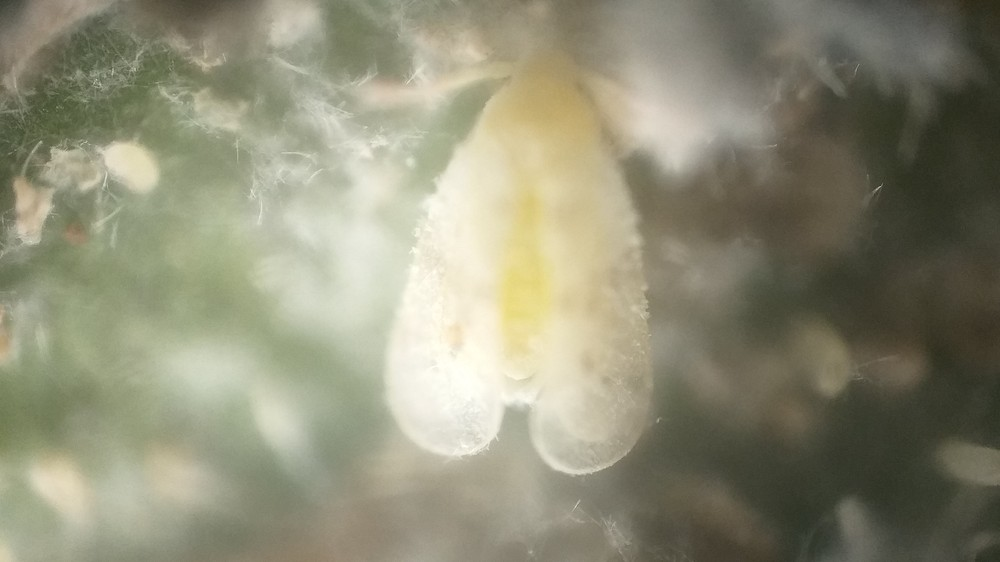Mosca Blanca: (325, 48, 749, 506)
